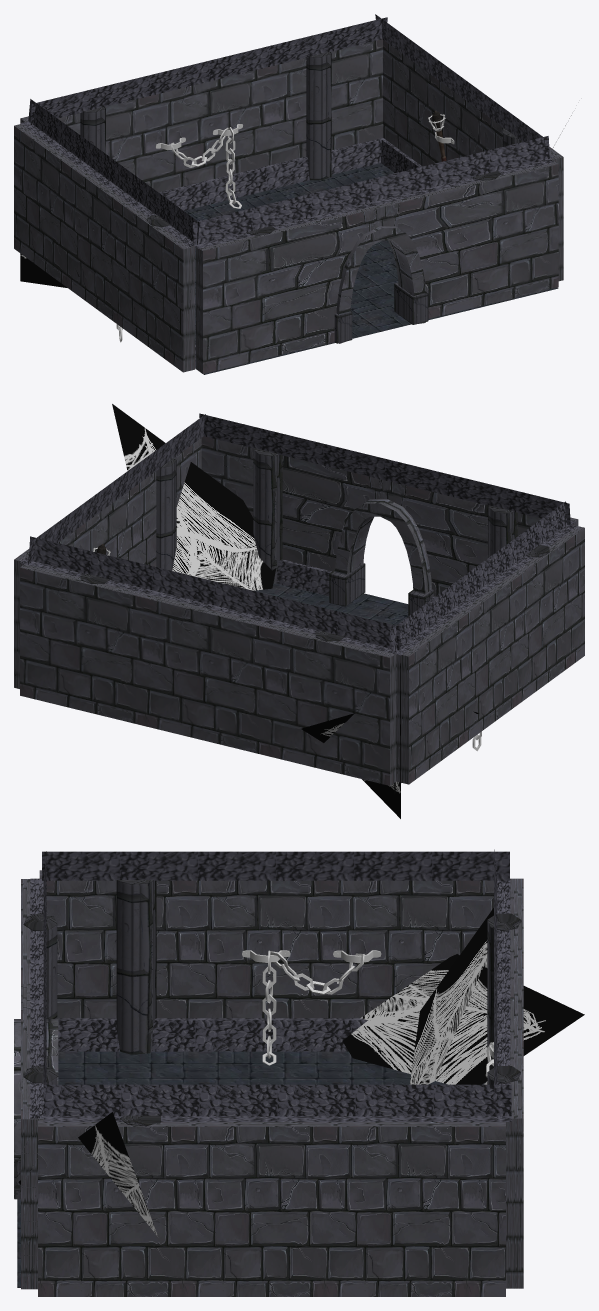
Rendered from room_005.FBX.
The picture shows the model from 3 angles, top to bottom: view 1: azimuth 30°, elevation 25°; view 2: azimuth 150°, elevation 25°; view 3: azimuth 270°, elevation 25°; orthographic projection. The views are drawn at different scales.
Visible parts, largest first — view 1: Box16, Box12, Box01, Box18, Box04, Box20, Plane01, Box17, Box02, Cylinder02, Box19, Ellipse02 (+5 smaller); view 2: Box01, Box12, Box16, Box20, Plane05, Box18, Box04, Box17, Ellipse01, Box19, Cylinder21, Plane01 (+6 smaller); view 3: Box04, Box12, Box19, Box17, Plane01, Plane04, Box11, Cylinder16, Box01, Plane02, Box16, Box18 (+5 smaller).
Boxes of the visible parts, box(x1,y1,x2,y2) form: Box16: box(196, 159, 558, 373); Box12: box(14, 124, 195, 372); Box01: box(20, 39, 382, 192); Box18: box(193, 136, 553, 248); Box04: box(383, 40, 563, 281); Box20: box(30, 17, 387, 124); Plane01: box(184, 163, 558, 374); Box17: box(20, 99, 199, 246); Box02: box(159, 138, 382, 210); Cylinder02: box(306, 51, 331, 180); Box19: box(375, 14, 554, 158); Ellipse02: box(339, 228, 425, 343); Box01: box(20, 564, 396, 785); Box12: box(396, 524, 584, 784); Box16: box(201, 436, 578, 596); Box20: box(24, 536, 400, 653); Plane05: box(112, 404, 276, 590); Box18: box(199, 413, 575, 525); Box04: box(14, 438, 201, 688); Box17: box(390, 501, 576, 655); Ellipse01: box(335, 499, 431, 594); Box19: box(20, 414, 205, 564); Cylinder21: box(253, 448, 282, 583); Plane01: box(253, 583, 408, 625); Box04: box(38, 1118, 505, 1296); Box12: box(39, 870, 493, 1018); Box19: box(43, 1084, 511, 1121); Box17: box(42, 851, 509, 880); Plane01: box(17, 1051, 486, 1287); Plane04: box(342, 954, 584, 1084); Box11: box(57, 1018, 367, 1051); Cylinder16: box(116, 880, 156, 1054); Box01: box(506, 878, 523, 1288); Plane02: box(410, 908, 493, 1084); Box16: box(21, 879, 38, 1289); Box18: box(30, 851, 46, 1118).
Size of the model in its own units: 1331 by 591 by 1108.
